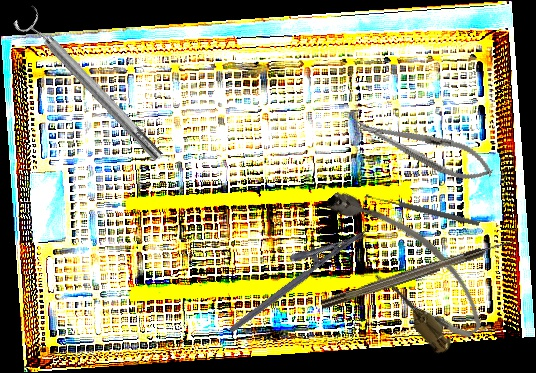Cannula: (315, 165, 495, 361)
Fixation Ring: (11, 3, 170, 169)
Hook Surgical: (319, 236, 516, 310)
Needle Holder: (215, 211, 369, 334), (352, 107, 498, 190)
Surgical Spoon: (364, 191, 481, 228)
